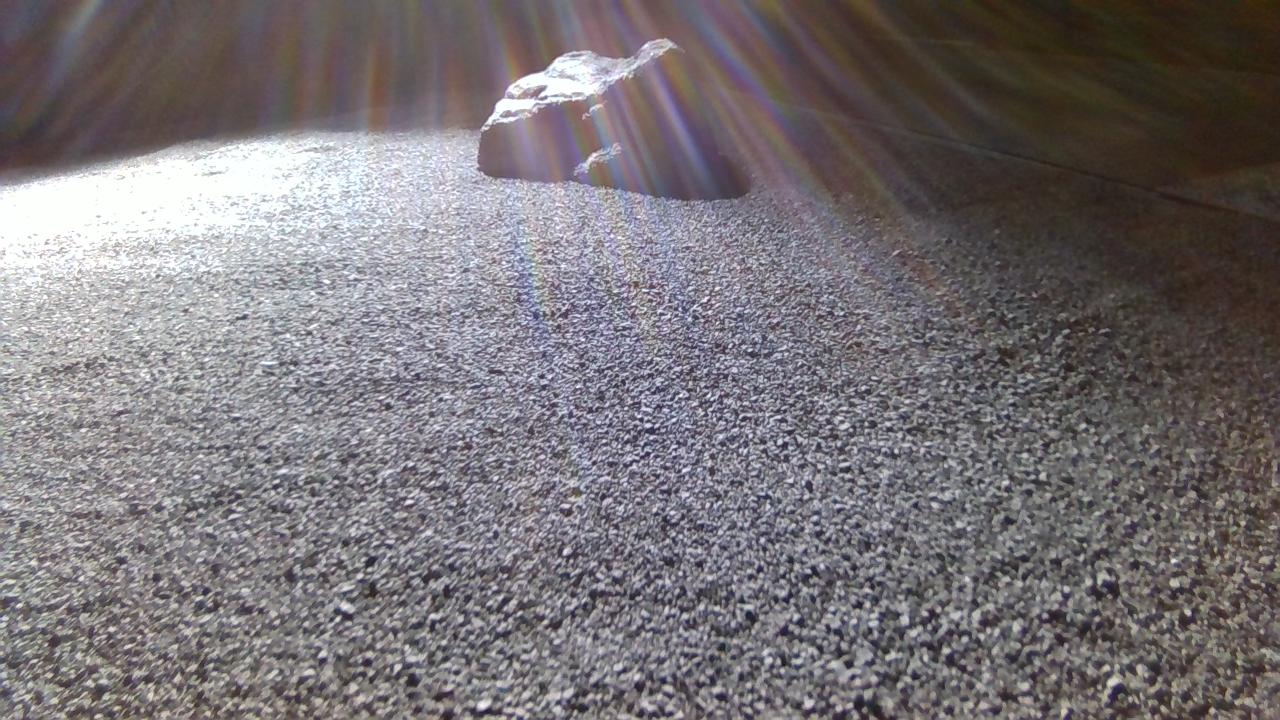rock: (478, 37, 741, 199)
